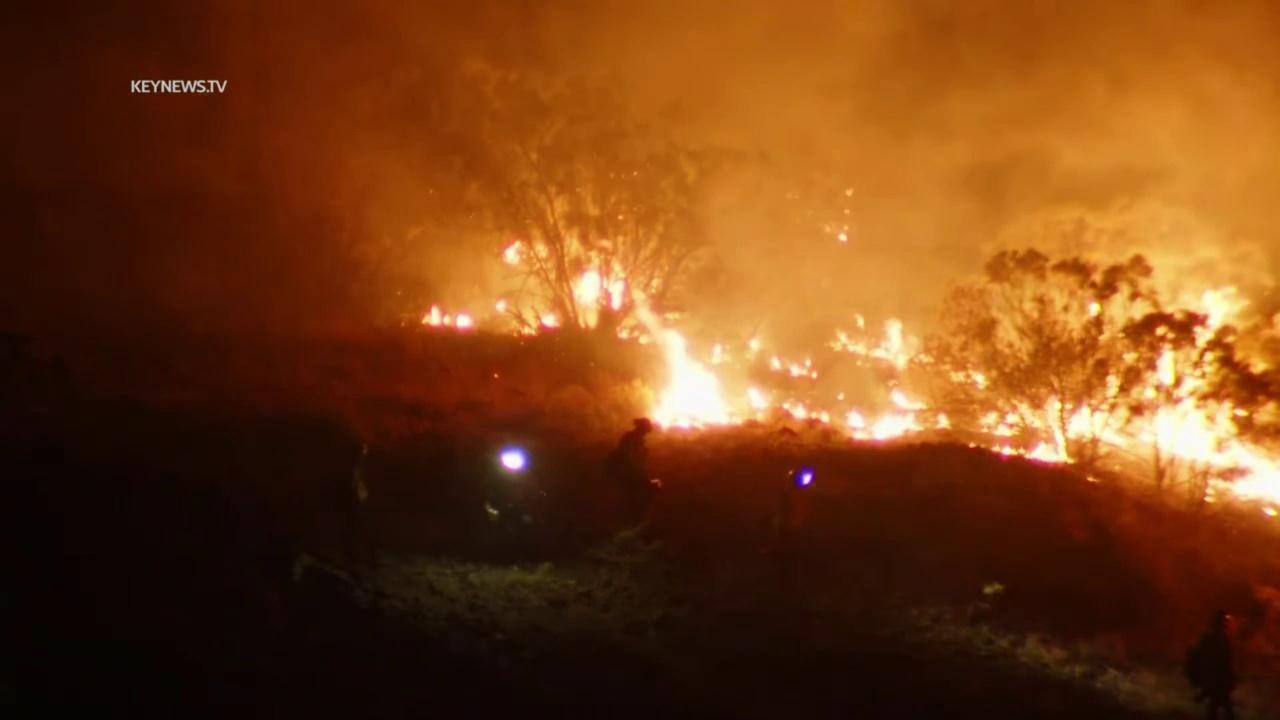fire: (980, 286, 1280, 516), (631, 286, 734, 430), (845, 385, 952, 446), (824, 312, 923, 373), (581, 268, 625, 312), (419, 303, 475, 334), (770, 354, 818, 381), (780, 398, 829, 424), (747, 388, 770, 414), (502, 237, 523, 264), (541, 311, 559, 334), (975, 372, 988, 393), (493, 298, 509, 313), (1087, 302, 1102, 318), (837, 232, 849, 243)
smoke: (0, 0, 1280, 326)
